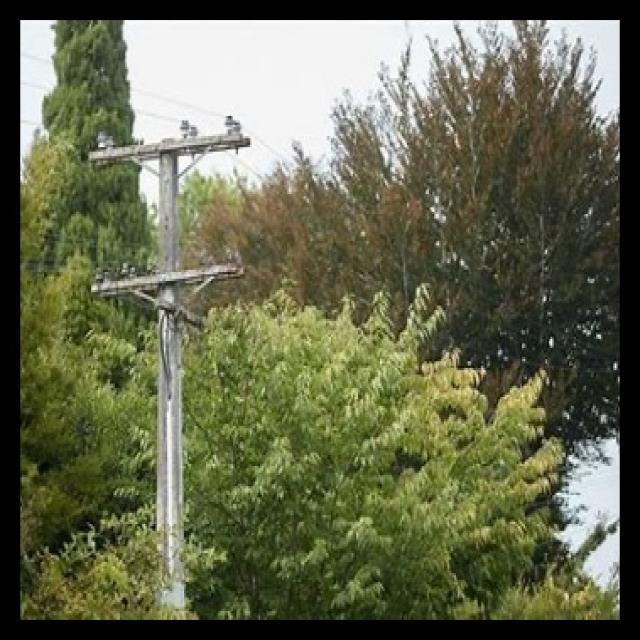utility poles: (86, 84, 265, 619)
